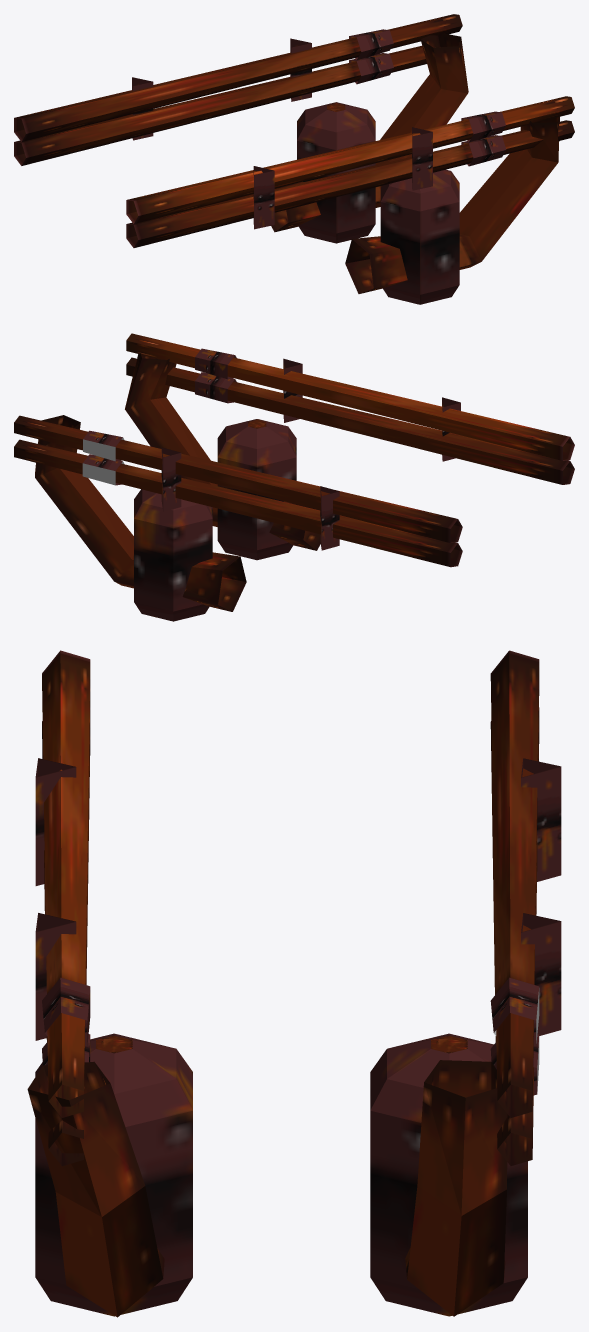
Rendered from Rohr_RostigGroß_1477.glb.
3 views of the same model, one above another, from view 1: azimuth 30°, elevation 25°; view 2: azimuth 150°, elevation 25°; view 3: azimuth 270°, elevation 25° (orthographic). The views are drawn at different scales.
Parts seen in each view (by area): view 1: pCylinderShape10, pCylinderShape28, pCylinderShape2, pCylinderShape9, pCylinderShape27, pCylinderShape1, pCylinderShape26, pCylinderShape29, pCylinderShape31, pCylinderShape30, pCylinderShape3, pCylinderShape11 (+3 smaller); view 2: pCylinderShape2, pCylinderShape10, pCylinderShape9, pCylinderShape1, pCylinderShape29, pCylinderShape26, pCylinderShape27, pCylinderShape28, pCylinderShape24, pCylinderShape23, pCylinderShape4, pCylinderShape3 (+5 smaller); view 3: pCylinderShape29, pCylinderShape27, pCylinderShape28, pCylinderShape26, pCylinderShape10, pCylinderShape2, pCylinderShape24, pCylinderShape23, pCylinderShape9, pCylinderShape30, pCylinderShape31, pCylinderShape4 (+2 smaller).
Part boxes in pixels (x1,y1,x2,y2): pCylinderShape10: (14, 14, 462, 141); pCylinderShape28: (345, 115, 559, 293); pCylinderShape2: (126, 96, 574, 223); pCylinderShape9: (14, 46, 440, 165); pCylinderShape27: (380, 169, 459, 304); pCylinderShape1: (126, 120, 574, 247); pCylinderShape26: (297, 102, 375, 243); pCylinderShape29: (271, 33, 468, 232); pCylinderShape31: (253, 166, 274, 229); pCylinderShape30: (412, 127, 432, 190); pCylinderShape3: (461, 135, 506, 166); pCylinderShape11: (349, 53, 393, 84); pCylinderShape2: (126, 333, 574, 460); pCylinderShape10: (14, 415, 462, 543); pCylinderShape9: (14, 439, 462, 567); pCylinderShape1: (126, 357, 574, 484); pCylinderShape29: (35, 415, 246, 611); pCylinderShape26: (134, 489, 212, 621); pCylinderShape27: (217, 419, 296, 560); pCylinderShape28: (125, 353, 320, 550); pCylinderShape24: (161, 447, 181, 511); pCylinderShape23: (320, 486, 339, 550); pCylinderShape4: (195, 348, 236, 379); pCylinderShape3: (195, 372, 236, 403); pCylinderShape29: (405, 1060, 507, 1316); pCylinderShape27: (35, 1033, 192, 1316); pCylinderShape28: (27, 1061, 164, 1317); pCylinderShape26: (370, 1033, 527, 1316); pCylinderShape10: (490, 650, 539, 1117); pCylinderShape2: (42, 650, 90, 1117); pCylinderShape24: (521, 913, 561, 1035); pCylinderShape23: (521, 758, 561, 881); pCylinderShape9: (490, 707, 539, 1165); pCylinderShape30: (35, 913, 76, 1040); pCylinderShape31: (35, 758, 76, 885); pCylinderShape4: (42, 977, 90, 1046).
Bounding box in the file's own units: 4.58 × 1.82 × 2.42.
18 materials, 16 textured.
